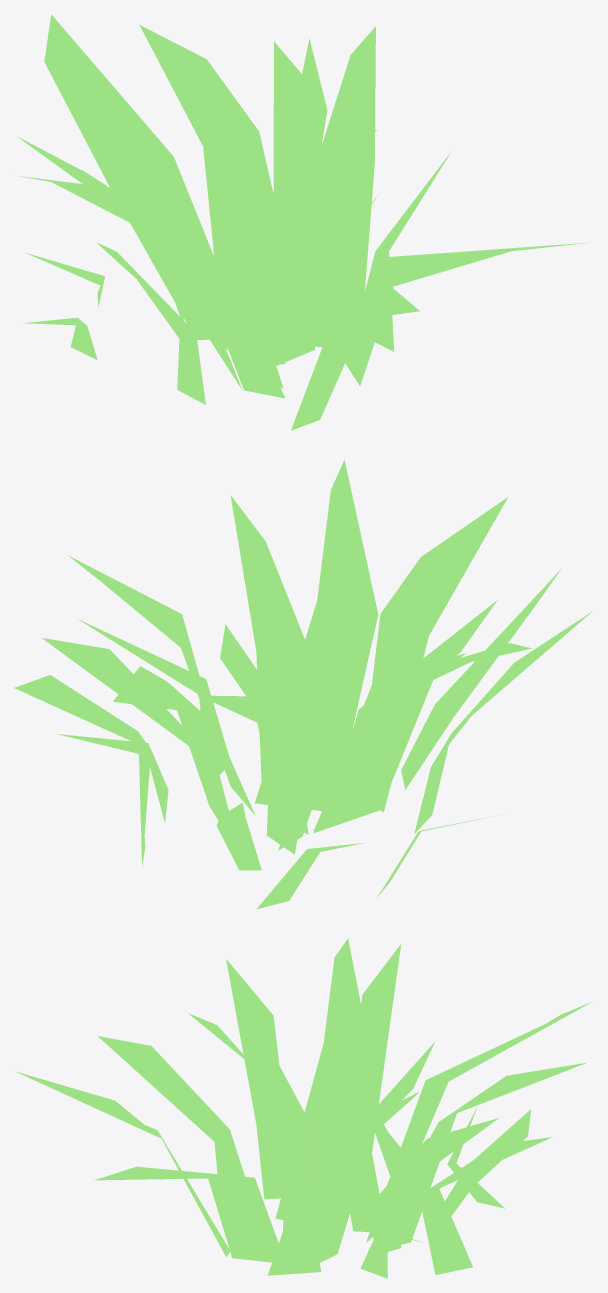
File: Grass2fbx.fbx
3 renders of one model, top to bottom at view 1: azimuth 30°, elevation 25°; view 2: azimuth 150°, elevation 25°; view 3: azimuth 270°, elevation 25°, orthographic. The views are drawn at different scales.
Parts seen in each view (by area): view 1: Grass2front; view 2: Grass2front; view 3: Grass2front.
Part boxes in pixels (x1,y1,x2,y2): Grass2front: (15,14,591,430); Grass2front: (14,460,592,909); Grass2front: (15,938,591,1278).
Bounding box in the file's own units: 49.79 × 33.08 × 65.66.
